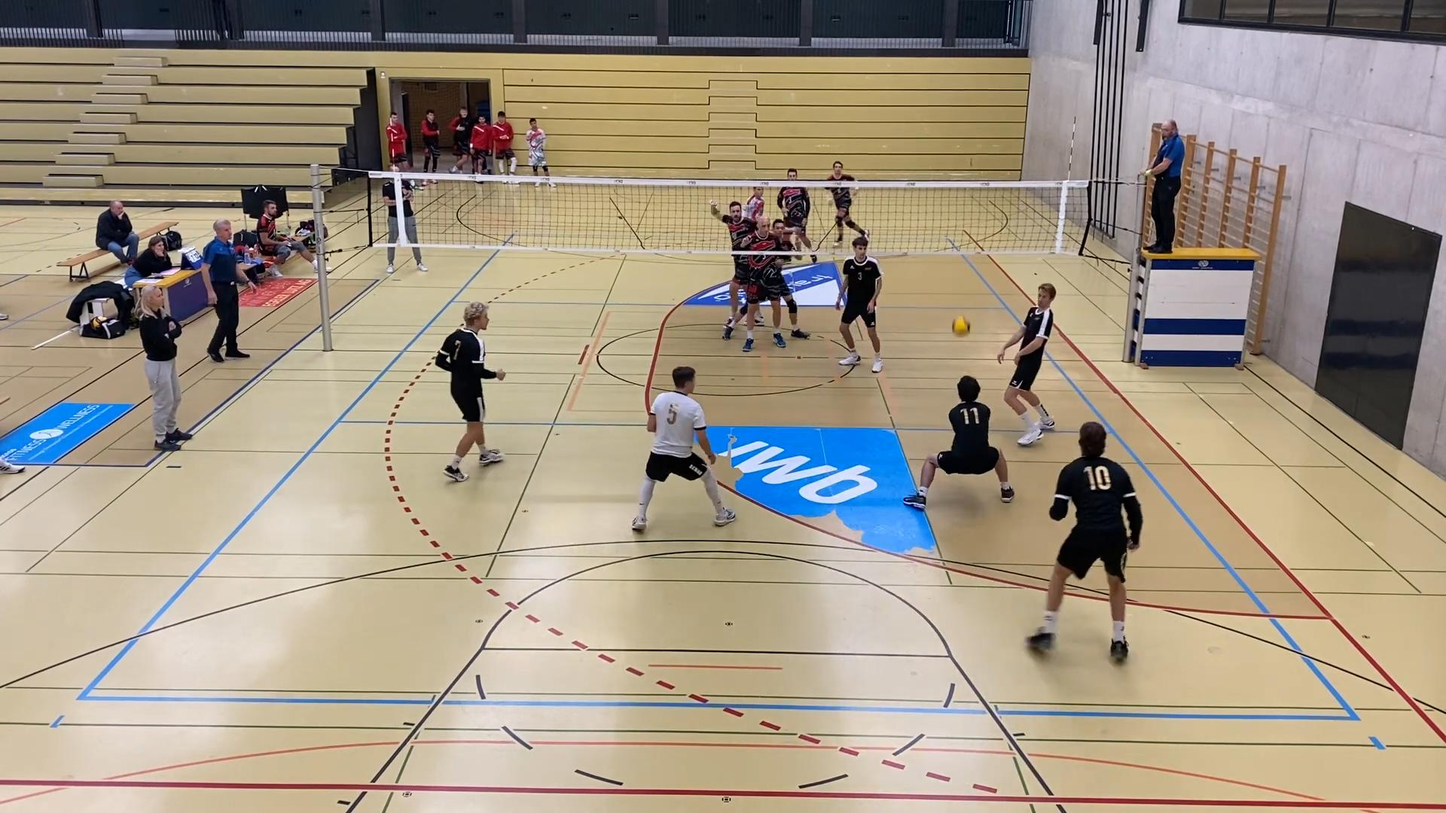Player: (1028, 422, 1142, 662), (631, 367, 736, 531), (435, 302, 505, 481), (997, 283, 1055, 445), (742, 219, 810, 352), (835, 237, 882, 373), (827, 161, 868, 245), (722, 254, 751, 340), (777, 187, 813, 255), (743, 187, 764, 222)
Receive: (907, 377, 1016, 514)
